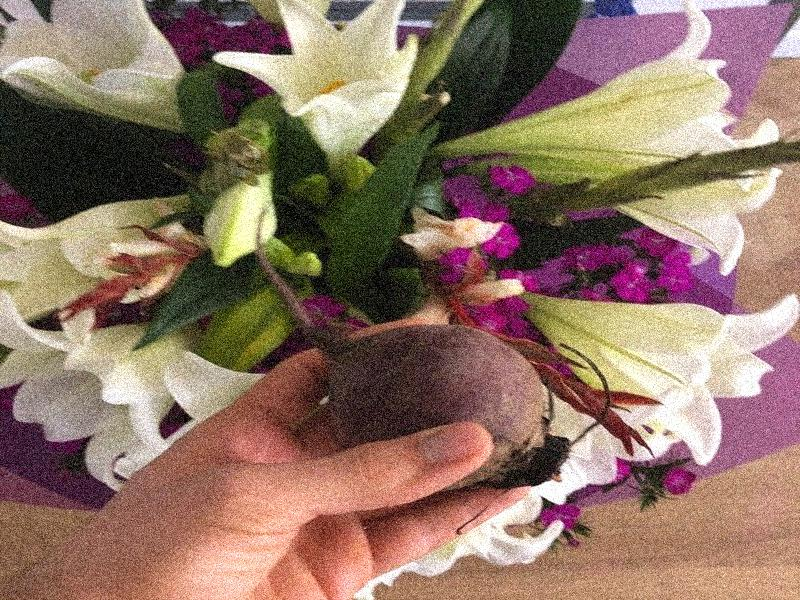Beet: (254, 205, 610, 489)
